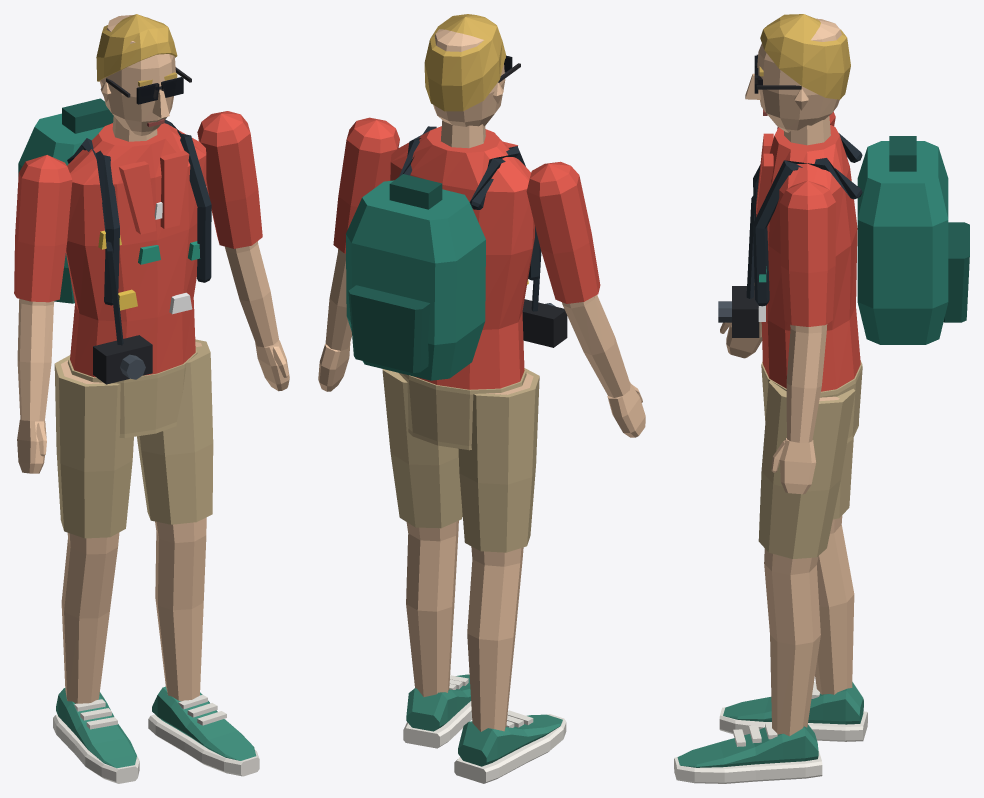
The model's file is HUMAN_05.obj.
3 renders of one model, left to right at view 1: azimuth 30°, elevation 25°; view 2: azimuth 150°, elevation 25°; view 3: azimuth 270°, elevation 25°, orthographic.
Visible parts, largest first — view 1: torso, legwear_R, legwear_L, backpack, leg_L, leg_R, sleeve_R, sleeve_L, shoe_L, shoe_R, pelvis_bottom, arm_R (+10 smaller); view 2: backpack, torso, legwear_R, leg_R, leg_L, sleeve_R, legwear_L, hair, shoe_R, sleeve_L, pelvis_bottom, shoe_L (+7 smaller); view 3: backpack, torso, legwear_L, leg_L, sleeve_L, shoe_L, leg_R, hair, shoe_R, arm_L, head, accessory (+7 smaller).
Boxes of the visible parts, x1,y1,x2,y2 form: torso: (66,123,206,377); legwear_R: (54,355,133,538); legwear_L: (137,339,213,524); backpack: (18,98,211,305); leg_L: (155,342,206,701); leg_R: (61,360,119,703); sleeve_R: (14,155,72,302); sleeve_L: (197,111,262,248); shoe_L: (148,686,259,776); shoe_R: (53,688,139,783); pelvis_bottom: (67,348,197,438); arm_R: (17,299,54,420); backpack: (345,126,539,380); torso: (390,126,534,389); legwear_R: (458,368,539,552); leg_R: (467,373,533,731); leg_L: (406,520,458,696); sleeve_R: (526,161,600,303); legwear_L: (382,369,462,528); hair: (424,14,505,111); shoe_R: (454,710,566,783); sleeve_L: (333,117,399,253); pelvis_bottom: (399,369,526,450); shoe_L: (403,673,472,748); backpack: (753,124,969,344); torso: (761,124,860,391); legwear_L: (758,380,855,558); leg_L: (764,396,839,736); sleeve_L: (779,180,835,326); shoe_L: (674,722,822,783); leg_R: (815,515,854,694); hair: (760,14,850,99); shoe_R: (719,682,867,741); arm_L: (786,324,827,442); head: (757,18,841,132); accessory: (718,196,759,337).
Size of the model in its own units: 0.7371 by 1.78 by 0.6468.
